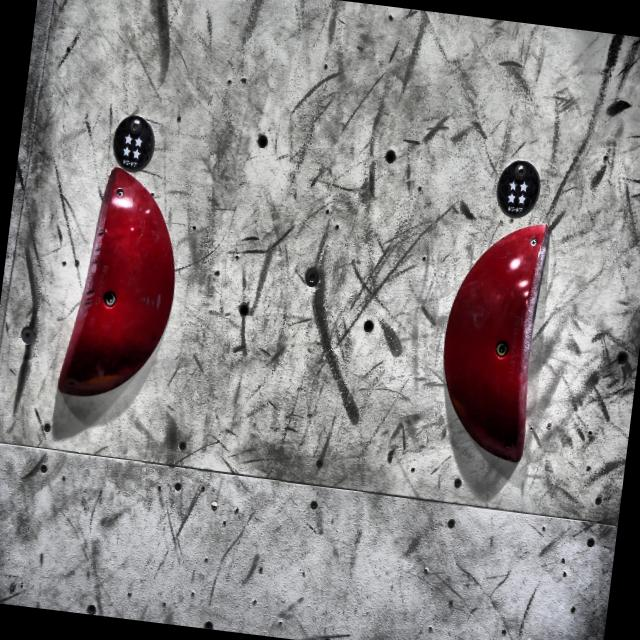Hold: (427, 213, 573, 470), (52, 162, 188, 411)
